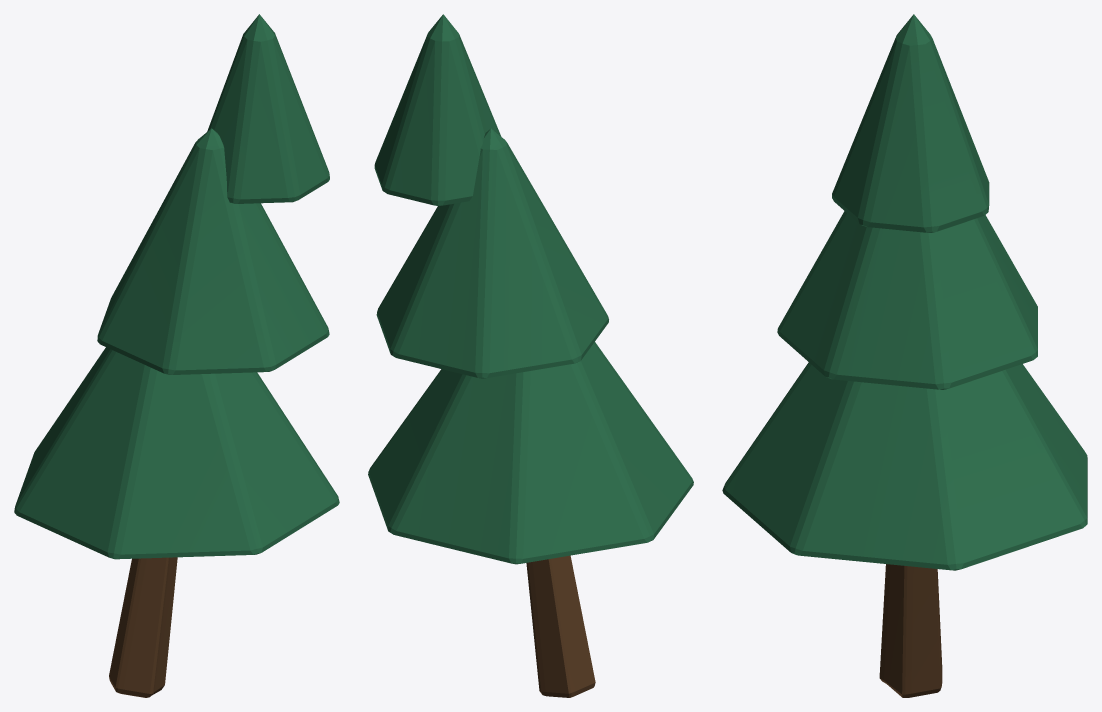
The model's file is prop_windpine.glb.
3 views of the same model, side by side, from view 1: azimuth 30°, elevation 25°; view 2: azimuth 150°, elevation 25°; view 3: azimuth 270°, elevation 25° (orthographic). The views are drawn at different scales.
Visible parts, largest first — view 1: prop_windpine_part_0; view 2: prop_windpine_part_0; view 3: prop_windpine_part_0.
Part boxes in pixels (x1,y1,x2,y2): prop_windpine_part_0: [14, 14, 339, 697]; prop_windpine_part_0: [368, 14, 693, 697]; prop_windpine_part_0: [722, 14, 1087, 697].
Bounding box in the file's own units: 1.92 × 4.16 × 1.85.
